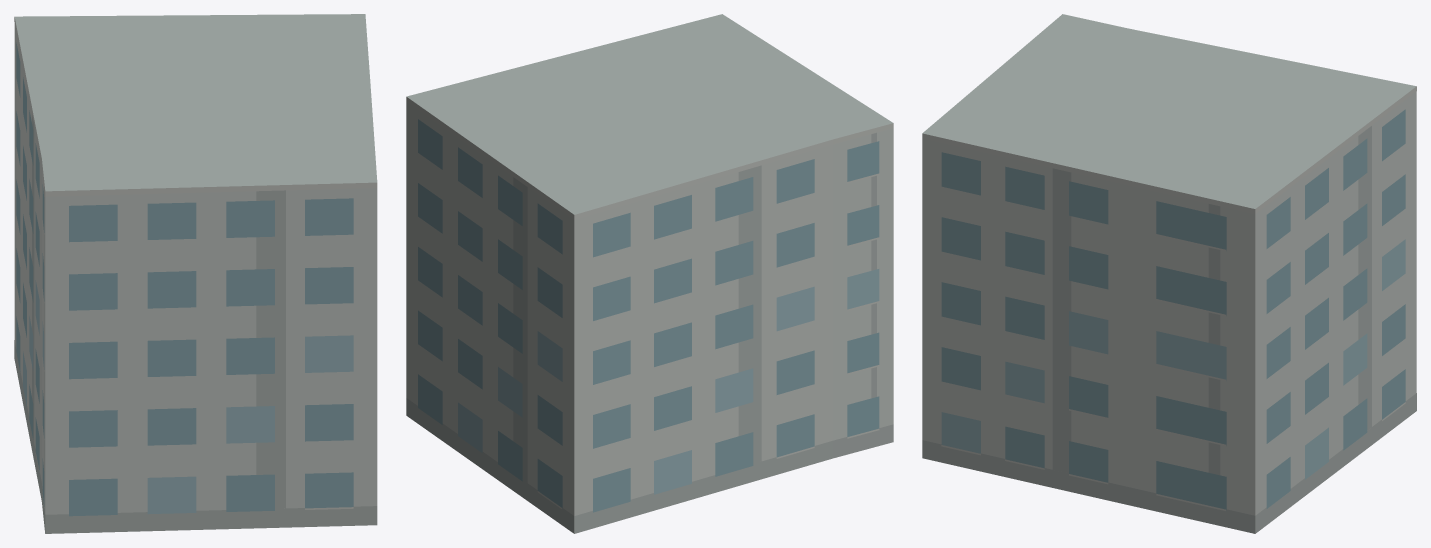
The model's file is survey-upis-32885593.glb.
The picture shows the model from 3 angles, left to right: view 1: azimuth 30°, elevation 25°; view 2: azimuth 150°, elevation 25°; view 3: azimuth 270°, elevation 25°; orthographic projection. The views are drawn at different scales.
Visible parts, largest first — view 1: survey-upis-32885593.tmp; view 2: survey-upis-32885593.tmp; view 3: survey-upis-32885593.tmp.
Boxes of the visible parts, x1,y1,x2,y2 form: survey-upis-32885593.tmp: [14, 14, 377, 533]; survey-upis-32885593.tmp: [406, 14, 893, 533]; survey-upis-32885593.tmp: [922, 14, 1416, 533].
Bounding box in the file's own units: 19.66 × 15.25 × 21.05.
